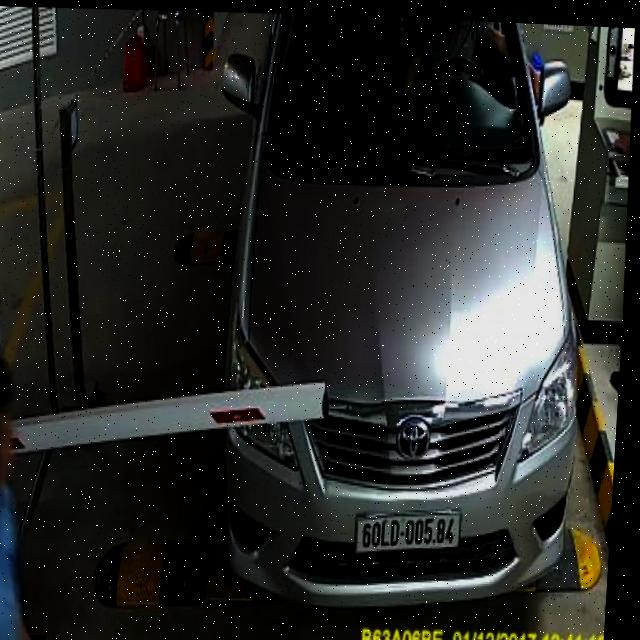car: (181, 10, 611, 623)
plate: (353, 505, 465, 557)
